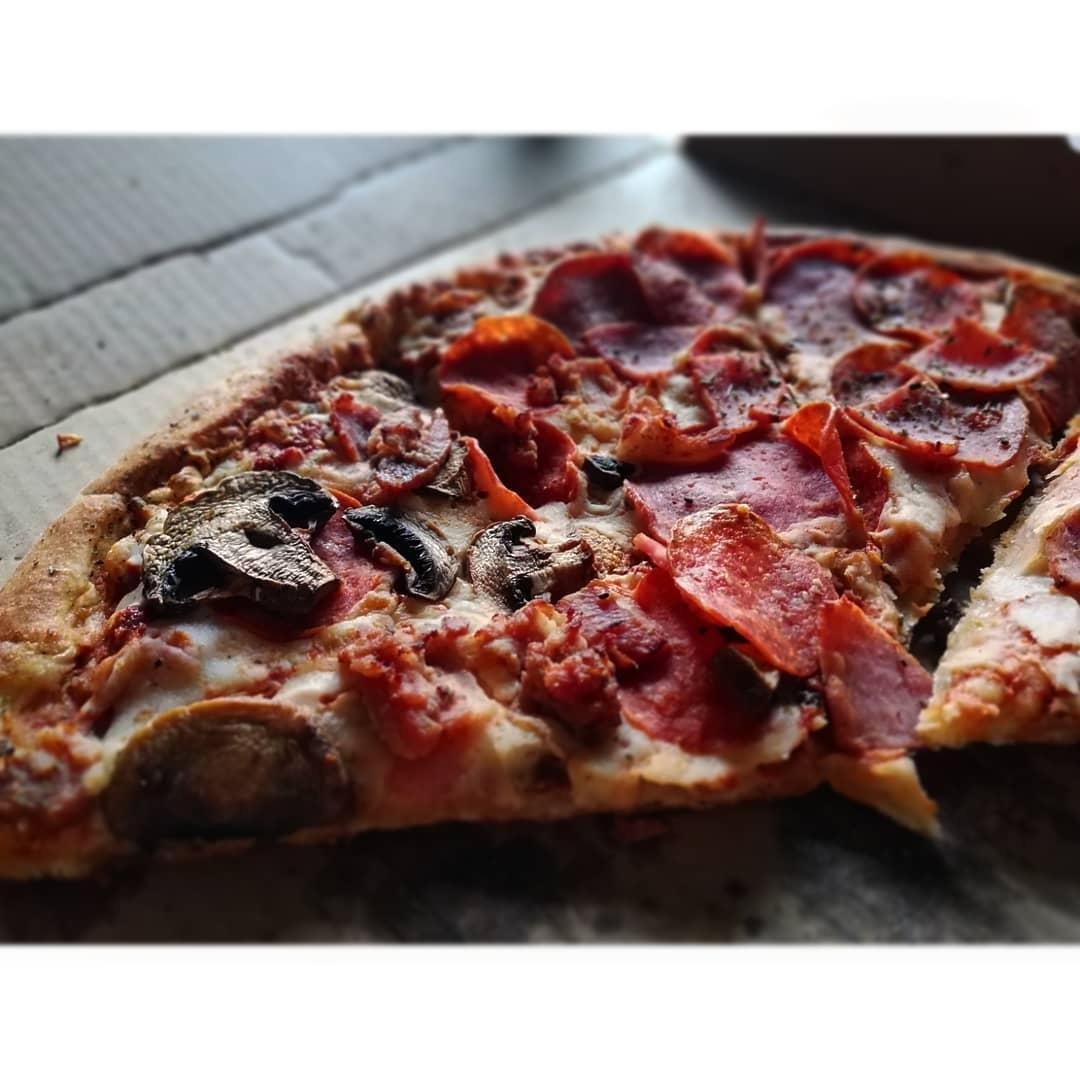Mushroom: (168, 471, 336, 614), (341, 494, 458, 621), (474, 508, 585, 581)
Pepperoni: (649, 474, 881, 698), (811, 334, 1029, 467), (754, 241, 994, 350), (541, 248, 723, 381), (605, 350, 801, 468), (792, 585, 928, 738), (441, 298, 596, 429), (316, 390, 448, 488), (456, 407, 601, 488)
Pizza: (0, 218, 1080, 874)
